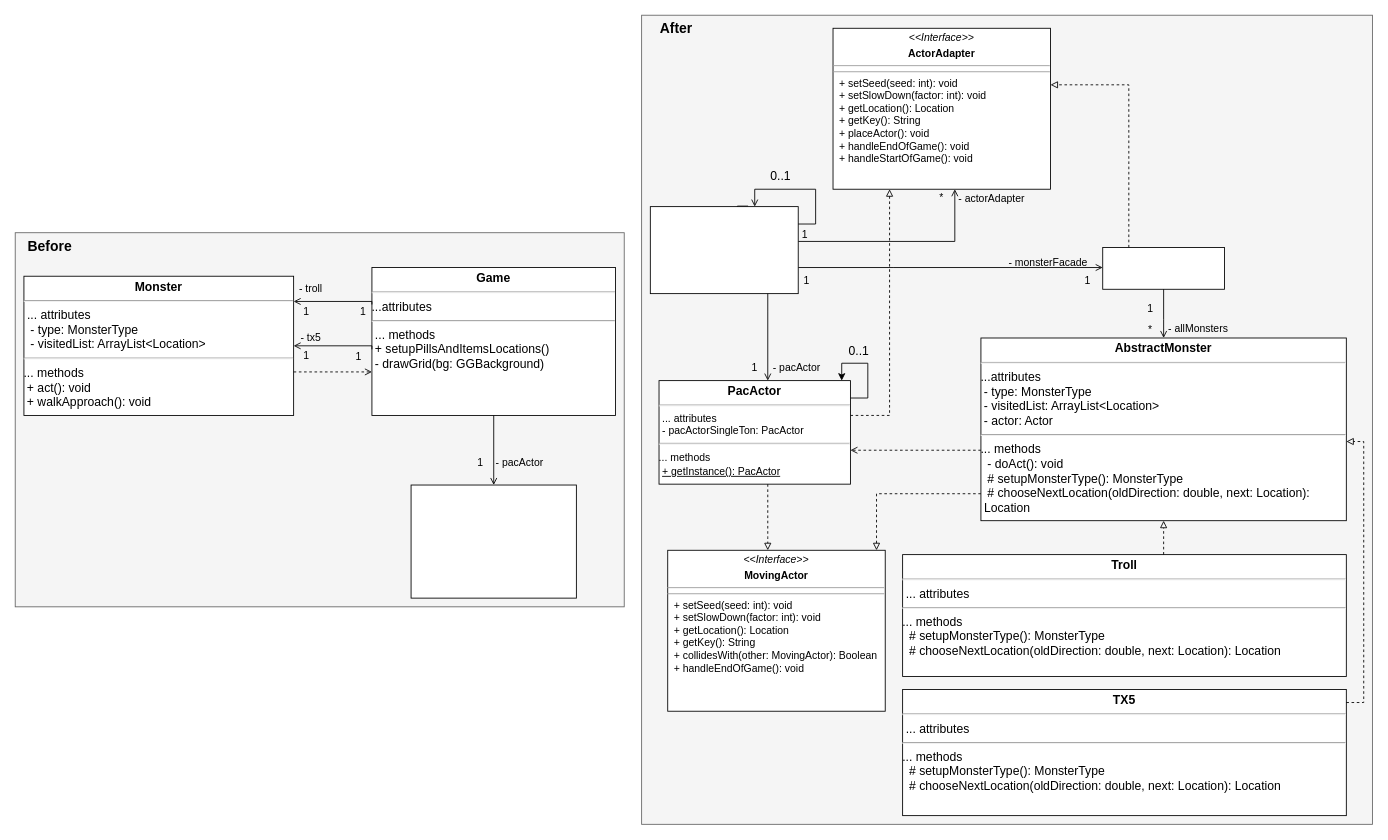
Image size: 1388x840. Some labels were removed from this diagram. Each missing label, with the centre of its shape:
"Game ... attributes ... methods" goes at [723,250].
"MonsterFacade" goes at [1163,268].
"PacActor ... attributes - nbHorzCells: int - nbVertCells: int ... methods" goes at [493,541].
